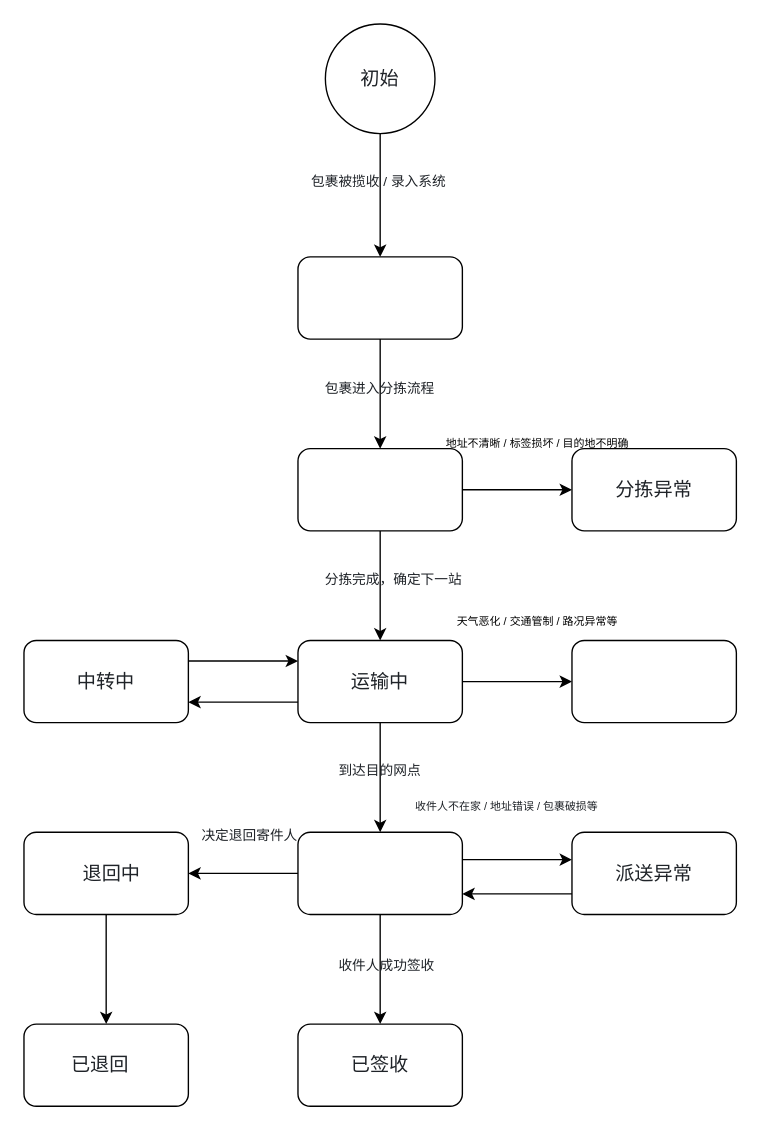
This 760x1130 diagram has some shape labels left out. Each missing label, with the box of its shape:
分拣中: (297, 447, 462, 531)
已揽收: (297, 256, 462, 339)
派送中: (297, 831, 462, 914)
运输异常: (571, 639, 736, 723)
